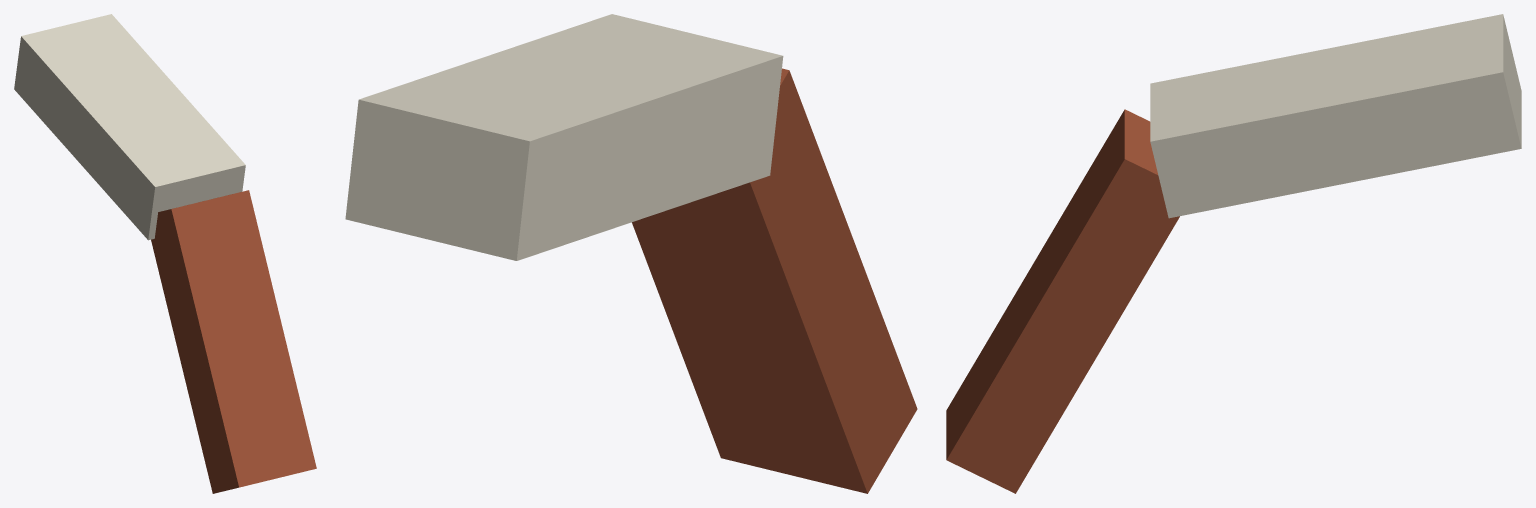
The model's file is rm2_claw_jaw_a.obj.
The picture shows the model from 3 angles, left to right: view 1: azimuth 30°, elevation 25°; view 2: azimuth 150°, elevation 25°; view 3: azimuth 270°, elevation 25°; orthographic projection. The views are drawn at different scales.
Parts seen in each view (by area): view 1: rm2_claw_jaw_a; view 2: rm2_claw_jaw_a; view 3: rm2_claw_jaw_a.
Part boxes in pixels (left/top/right/bottom): rm2_claw_jaw_a: left=14, top=14, right=316, bottom=493; rm2_claw_jaw_a: left=345, top=14, right=917, bottom=493; rm2_claw_jaw_a: left=946, top=14, right=1521, bottom=493.
Size of the model in its own units: 0.035 by 0.1195 by 0.1462.
